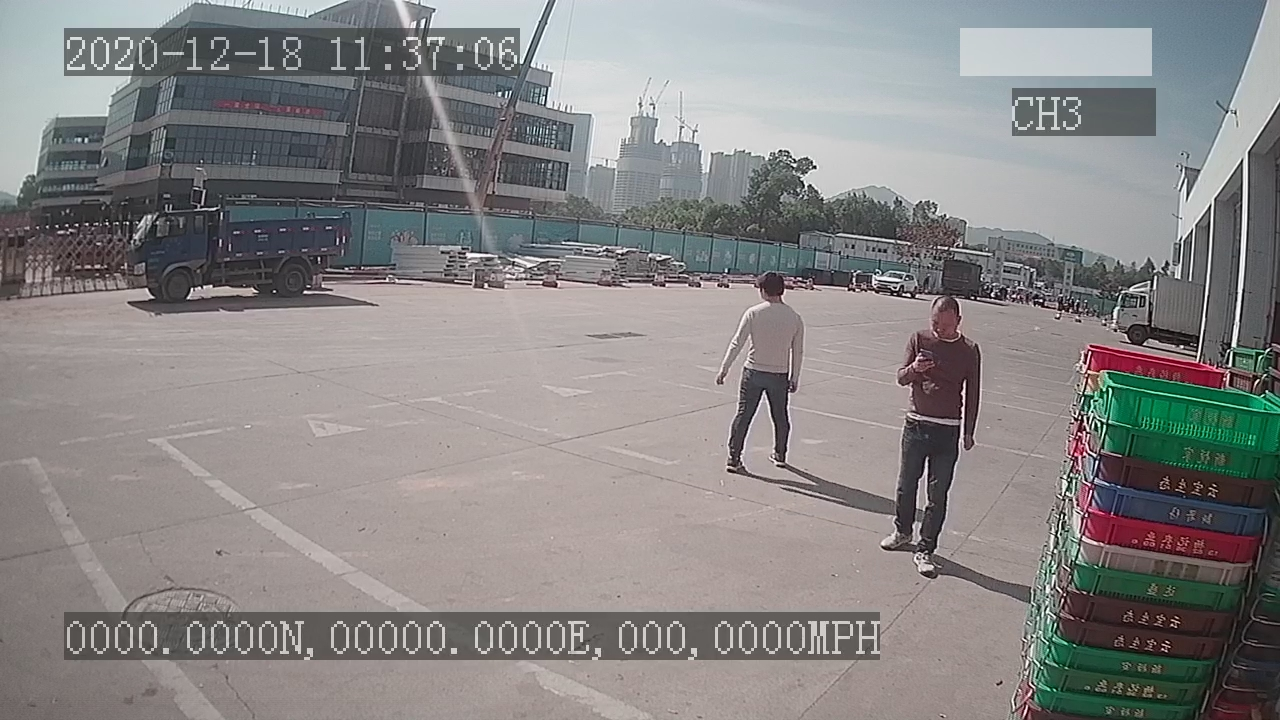person: (873, 296, 985, 584), (710, 265, 808, 473)
